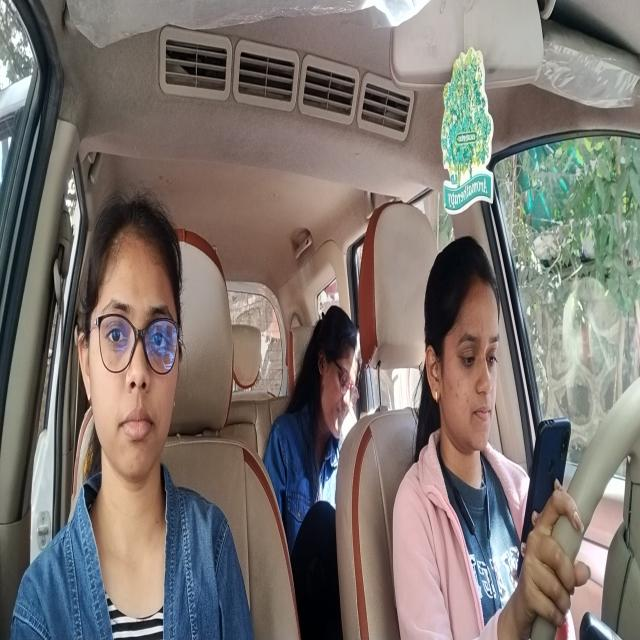mobile: (521, 407, 572, 561)
person: (71, 206, 188, 495), (421, 234, 506, 467), (310, 299, 360, 457)
